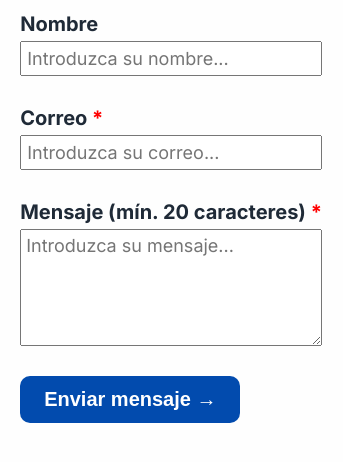
Test case: ContactForm component test suite › should display an error message and apply the class if the message is incorrect
Type "test" into the field named "name-input".
click(171, 58); type("test")  # box [20,41,322,76]
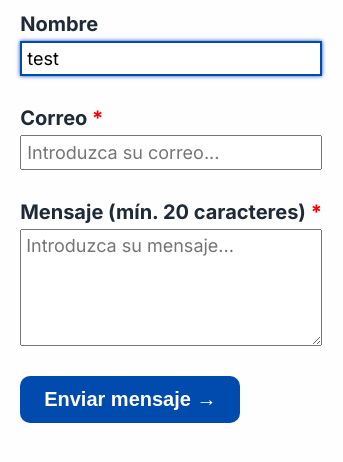
Type "testname@email.com" into the field named "email-input".
click(171, 152); type("testname@email.com")  # box [20,135,322,170]
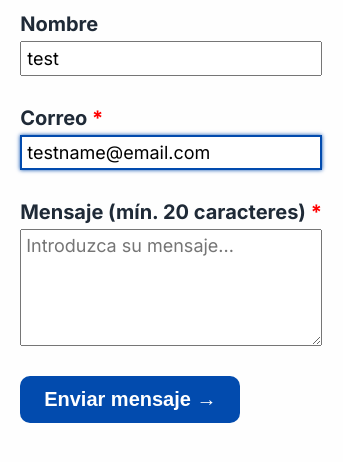
Type "Lorem ipsum" into the text box named "msg-input".
click(171, 288); type("Lorem ipsum")  # box [20,229,322,346]
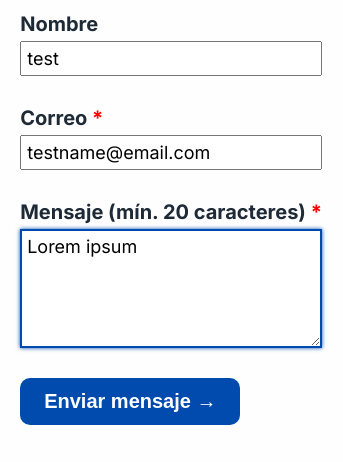
Click the button.
click(130, 402)  # box [20,378,240,425]
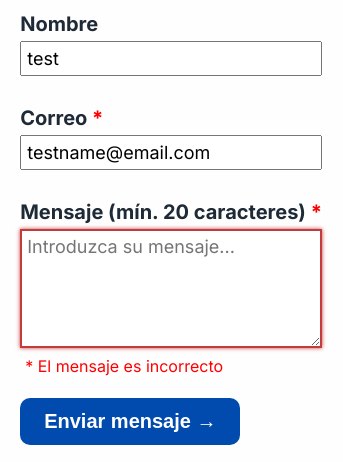
Expected: the message "* El mensaje es incorrecto" is shown, [25,356,223,376]
Expected: the text box named "msg-input" is empty, [20,229,322,348]
